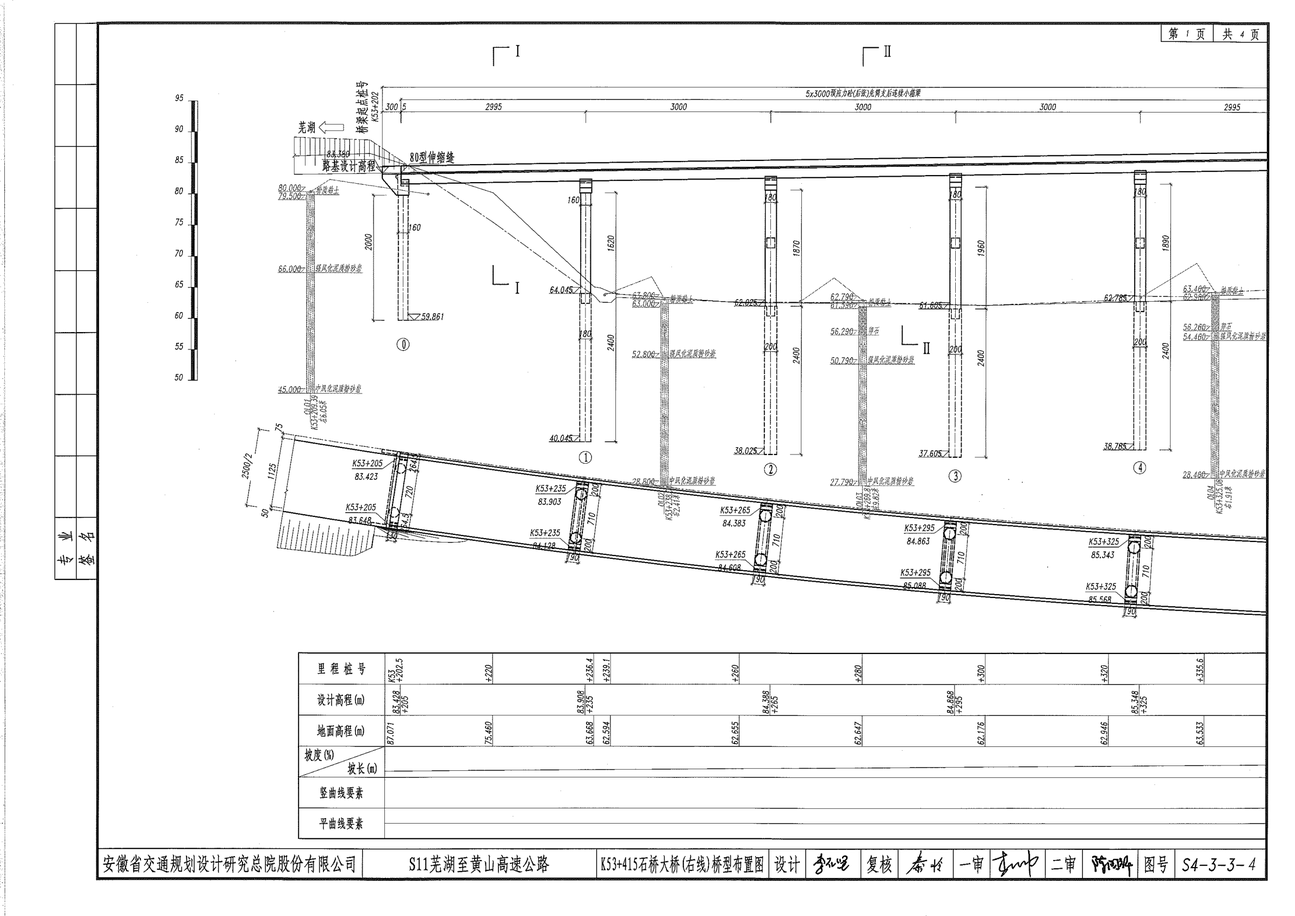A: (140, 41, 1280, 494)
